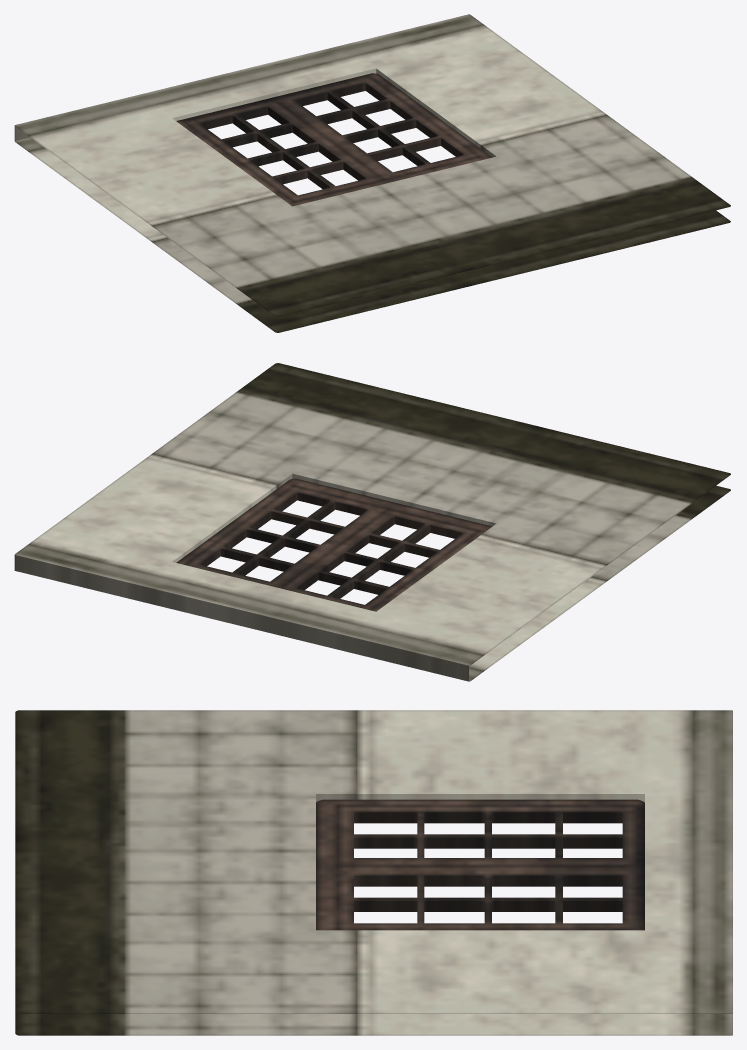
Rendered from SM_EC_House_Wall_Window_1_3x3_3.fbx.
The picture shows the model from 3 angles, top to bottom: view 1: azimuth 30°, elevation 25°; view 2: azimuth 150°, elevation 25°; view 3: azimuth 270°, elevation 25°; orthographic projection. The views are drawn at different scales.
Visible parts, largest first — view 1: SM_EC_House_Wall_Window_1_3x3_3; view 2: SM_EC_House_Wall_Window_1_3x3_3; view 3: SM_EC_House_Wall_Window_1_3x3_3.
Part boxes in pixels (<box>): SM_EC_House_Wall_Window_1_3x3_3: <box>14,14,730,332</box>; SM_EC_House_Wall_Window_1_3x3_3: <box>14,363,730,681</box>; SM_EC_House_Wall_Window_1_3x3_3: <box>15,710,732,1035</box>.
Bounding box in the file's own units: 3 × 3 × 0.1.
